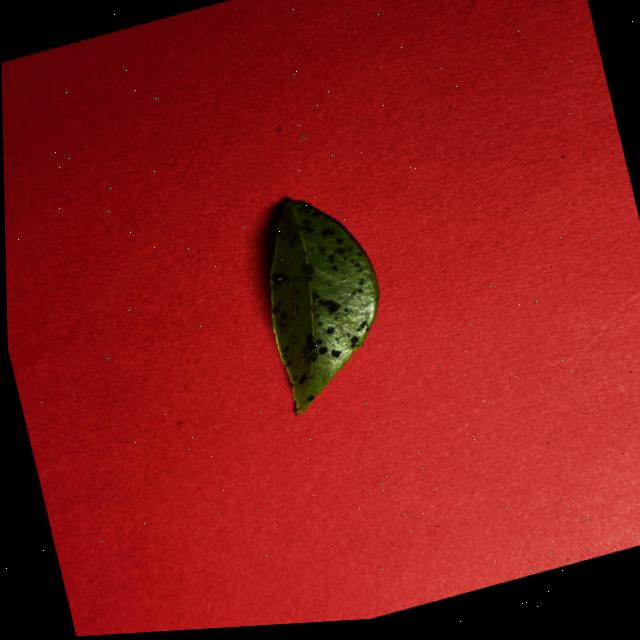sooty_mold: (269, 199, 377, 412)
